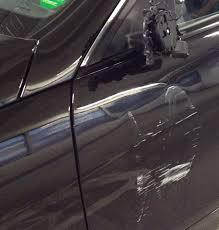doorouter-dent: (90, 22, 218, 221)
